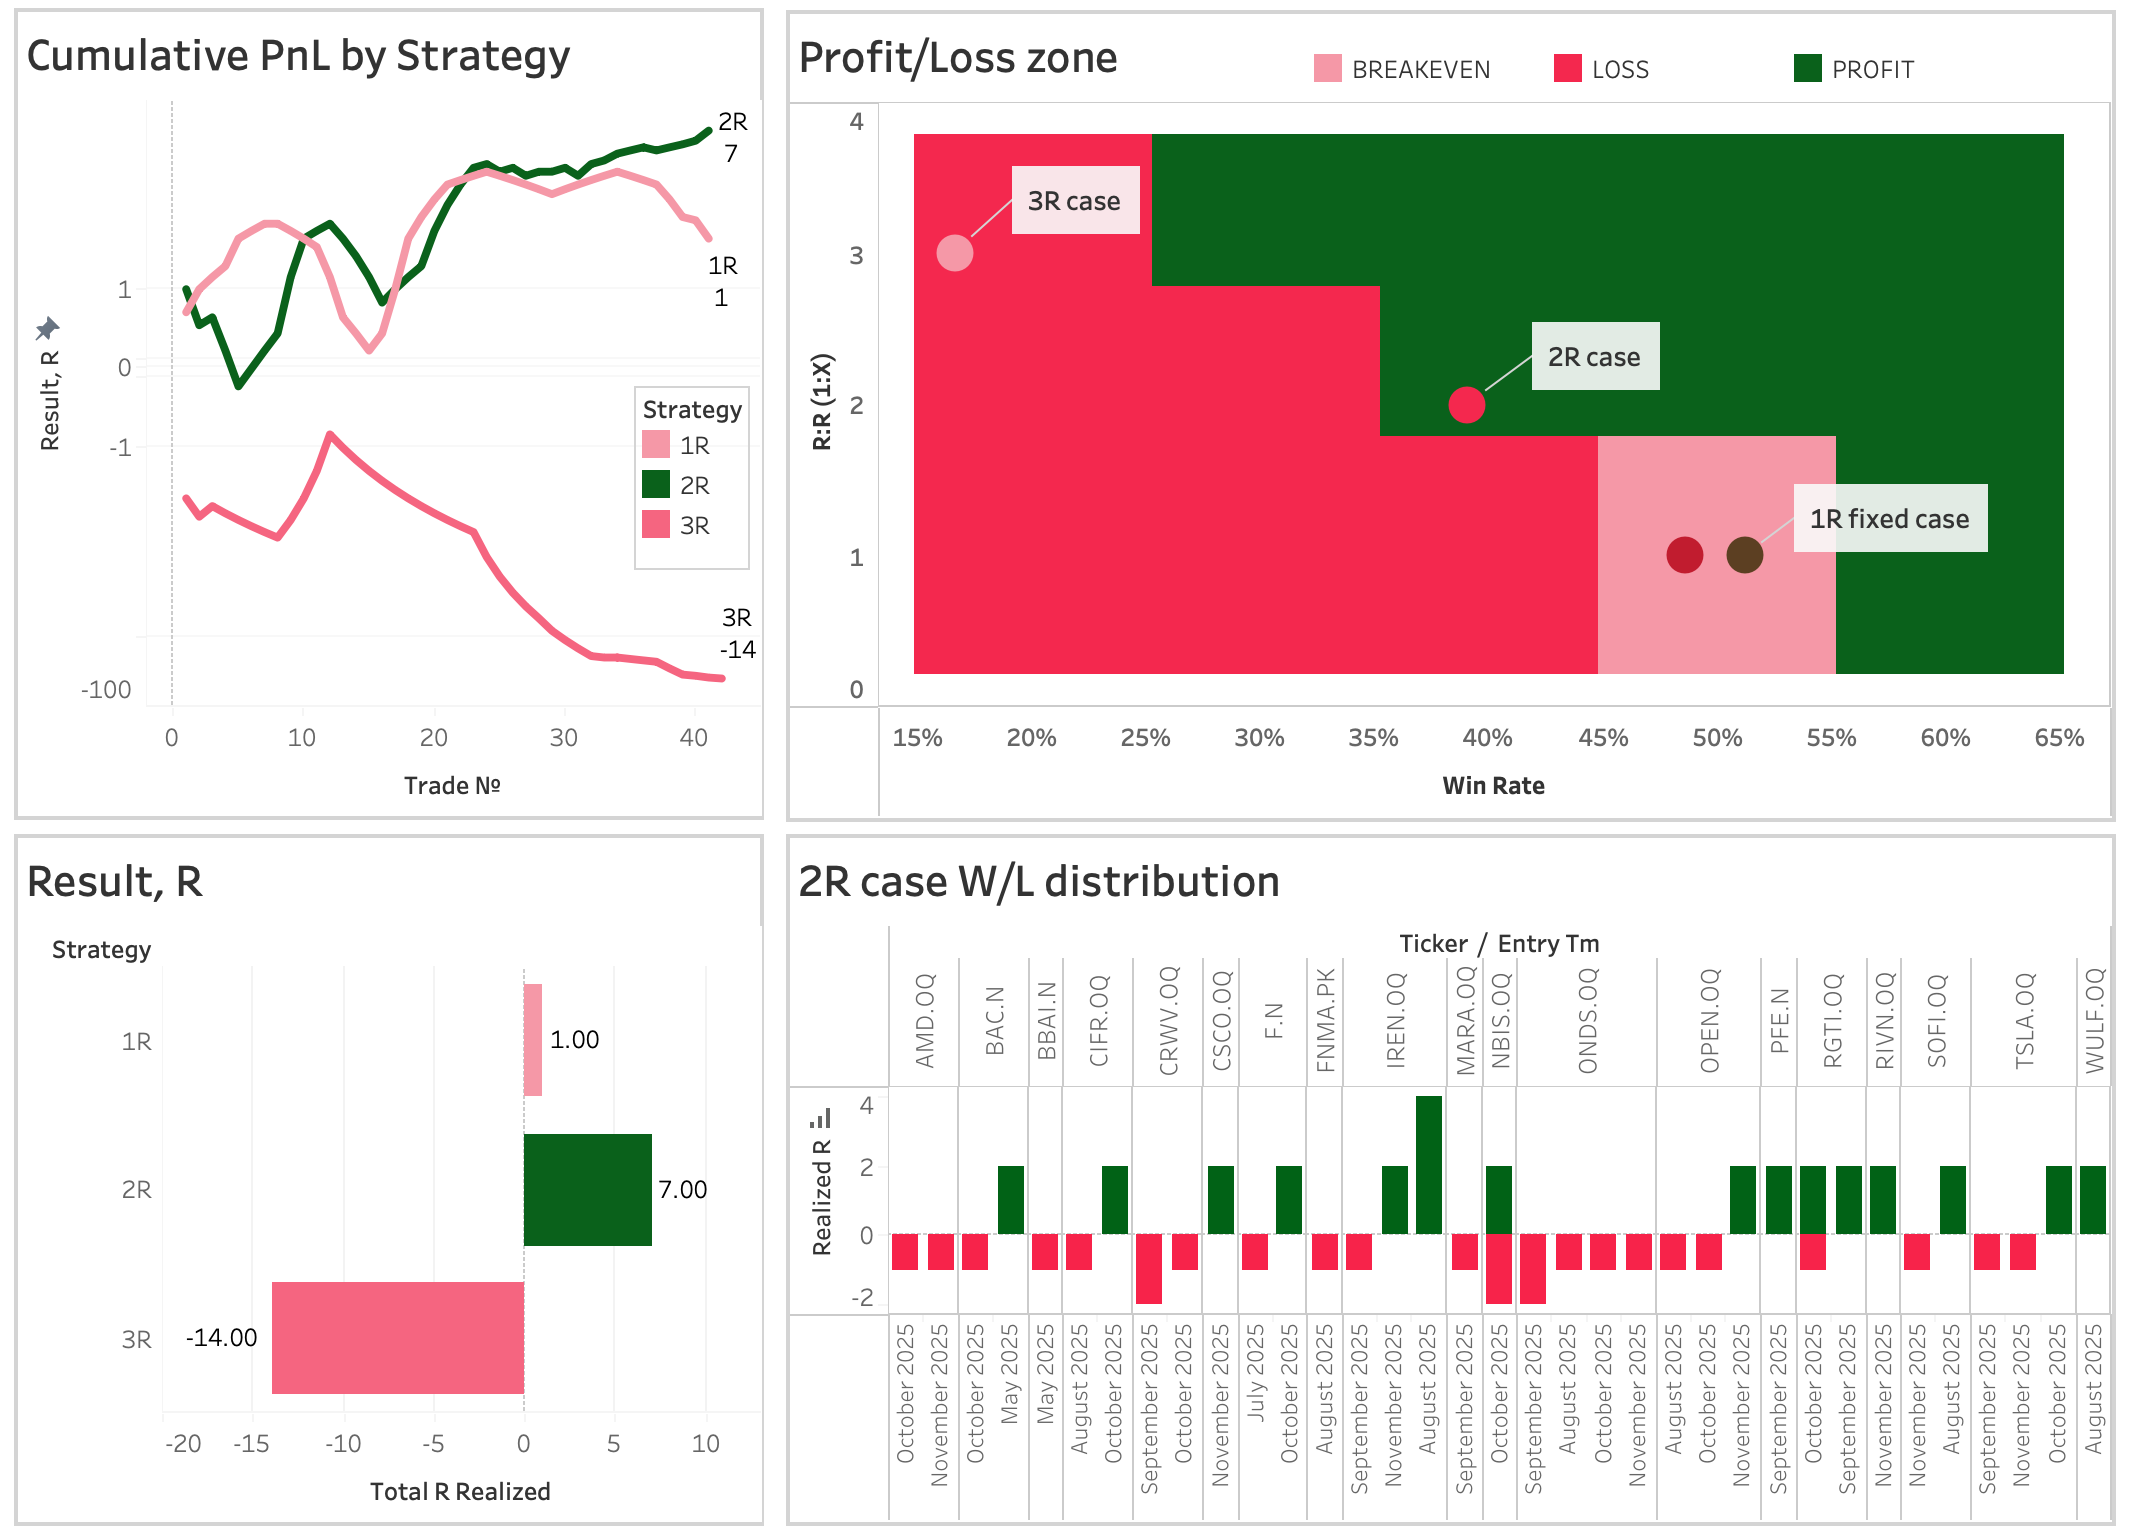

Layout of this report page (visuals, bound fields, positions):
{"tool":"tableau","page":{"name":"Dashboard 1","canvas":[1066,768],"ordinal":0},"visuals":[{"type":"worksheet","title":"PnL/strat","mark":"Line","rows":["Calculation_0799293465743361"],"cols":["point_index"],"box":[7,4,375,406]},{"type":"worksheet","title":"P/L zone","mark":"Square","rows":["R"],"cols":["WinRate","WinRate2"],"box":[393,5,665,406]},{"type":"legend","title":"PnL/strat","param":"[federated.1oquyij0su3hak1bzjsdf0j89kk8].[none:Calculation_0799293449318400:nk]","box":[317,193,58,92]},{"type":"worksheet","title":"Realized Fin","mark":"Bar","rows":["Calculation_0799293449318400"],"cols":["total_r_realized"],"box":[7,417,375,346]},{"type":"worksheet","title":"2R case","mark":"Bar","rows":["r_realized"],"cols":["ticker","entry_tm"],"box":[393,417,665,346]}]}

Visuals, with their boxes in screenshot pixels (x1, y1, x2, y2), scaled from the page's 1066x768 canvas onto the 2132x1536 screenshot:
"PnL/strat" worksheet (Line marks): region(14, 8, 764, 820)
"P/L zone" worksheet (Square marks): region(786, 10, 2116, 822)
"PnL/strat" legend: region(634, 386, 750, 570)
"Realized Fin" worksheet (Bar marks): region(14, 834, 764, 1526)
"2R case" worksheet (Bar marks): region(786, 834, 2116, 1526)
